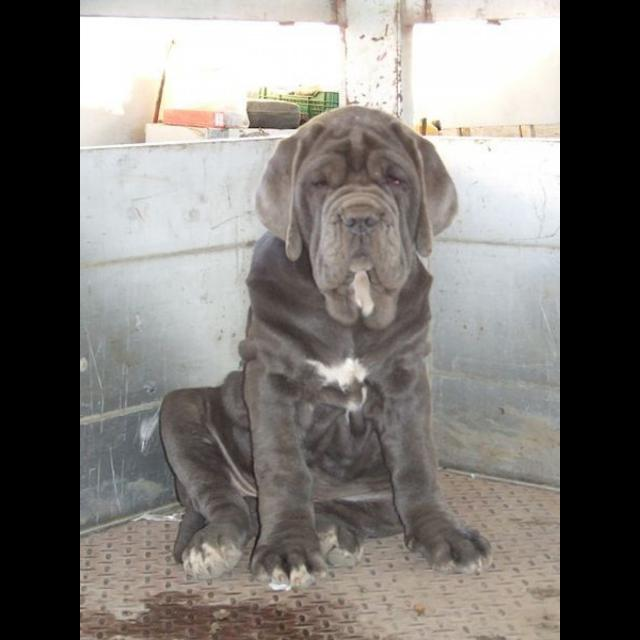mastino_napoletano: (160, 104, 495, 592)
